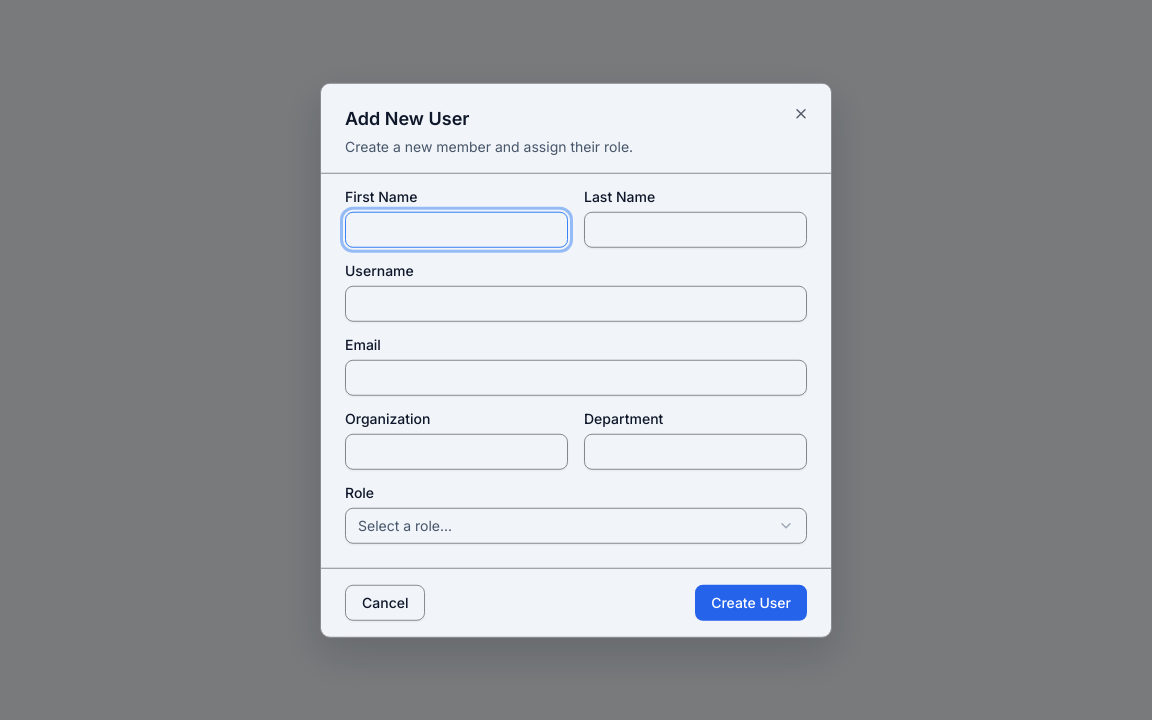
it: <UserModal> while the roles request is in flight › keeps typed input when the roles response arrives
Type "Ada" into the field labelled "First Name" at [456, 229], box [345,211,568,247]
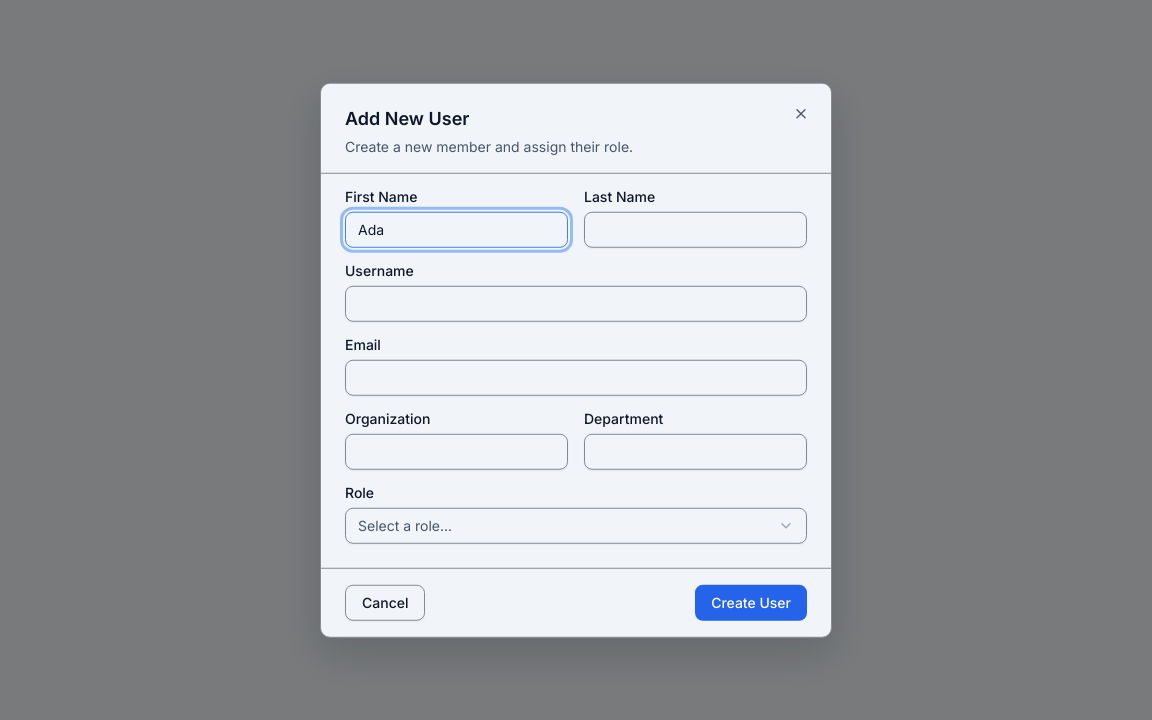
Type "ada@example.com" into the field labelled "Email" at [576, 377], box [345,359,807,395]
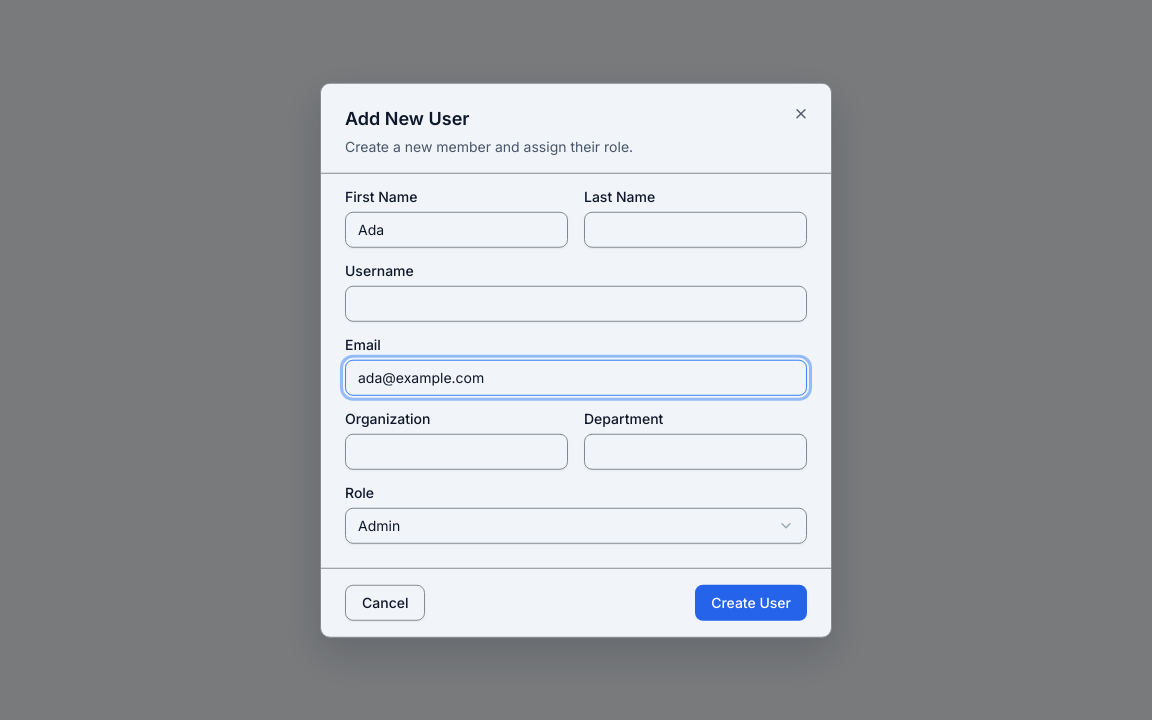
Now the dropdown reads "Admin", box [345,507,807,543]
